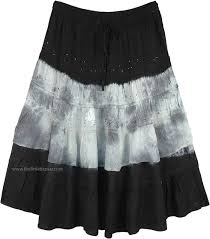C_skirt: (1, 1, 210, 239)
